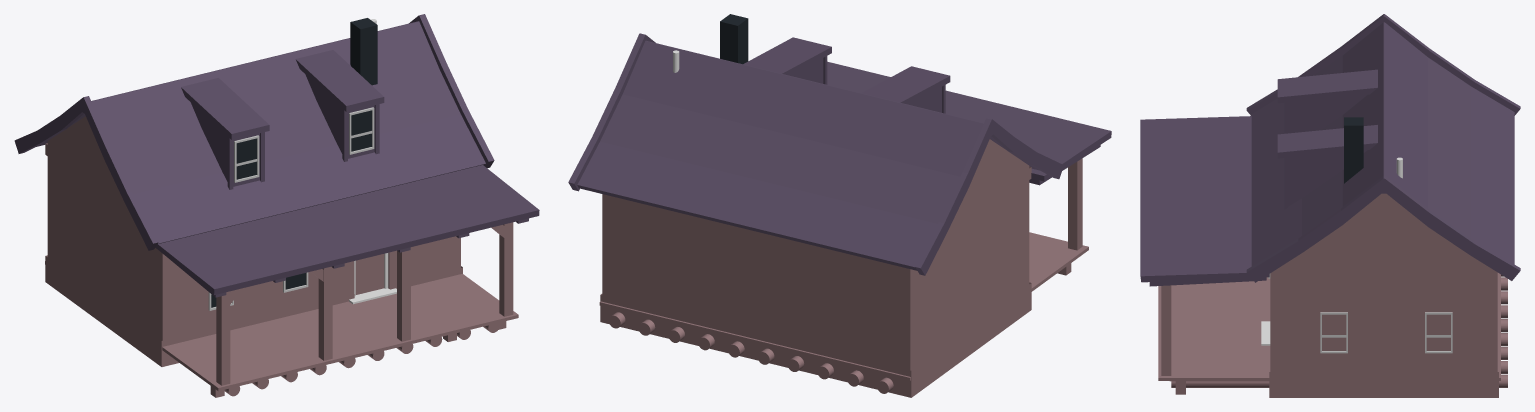
File: House.fbx
3 renders of one model, left to right at view 1: azimuth 30°, elevation 25°; view 2: azimuth 150°, elevation 25°; view 3: azimuth 270°, elevation 25°, orthographic. The views are drawn at different scales.
Visible parts, largest first — view 1: Cube.003, Cube, Cube.006, Cube.002, Cube.020, Cube.019, Cube.004, Cube.009, Cube.008, Cube.011, Cube.010, Cylinder.001 (+2 smaller); view 2: Cube.003, Cube, Cube.006, Cube.002, Cube.020, Cube.019, Cylinder.001, Cube.004, Cube.009; view 3: Cube.003, Cube, Cube.006, Cube.002, Cube.019, Cube.020, Cylinder.001, Cube.004, Cube.008, Cube.014, Cube.005.
Part boxes in pixels (x1,y1,x2,y2): Cube.003: (14,14,494,250); Cube: (45,116,462,366); Cube.006: (155,165,539,297); Cube.002: (45,261,518,391); Cube.020: (295,50,384,161); Cube.019: (181,78,269,189); Cube.004: (350,18,377,85); Cube.009: (216,288,242,385); Cube.008: (491,222,513,316); Cube.011: (311,266,332,360); Cube.010: (397,244,423,341); Cylinder.001: (224,323,499,396); Cube.003: (568,33,1063,275); Cube: (600,139,1031,397); Cube.006: (827,61,1111,185); Cube.002: (599,232,1088,380); Cube.020: (743,37,831,84); Cube.019: (861,66,950,113); Cylinder.001: (608,312,893,393); Cube.004: (720,14,748,64); Cube.009: (1068,158,1082,250); Cube.003: (1246,14,1520,282); Cube: (1269,193,1498,397); Cube.006: (1140,116,1269,286); Cube.002: (1158,273,1500,380); Cube.019: (1277,69,1377,133); Cube.020: (1277,125,1377,209); Cylinder.001: (1171,274,1507,387); Cube.004: (1344,117,1363,183); Cube.008: (1161,285,1171,375); Cube.014: (1425,312,1452,353); Cube.005: (1320,312,1347,353).
Bounding box in the file's own units: 9.26 × 6.54 × 9.04.
